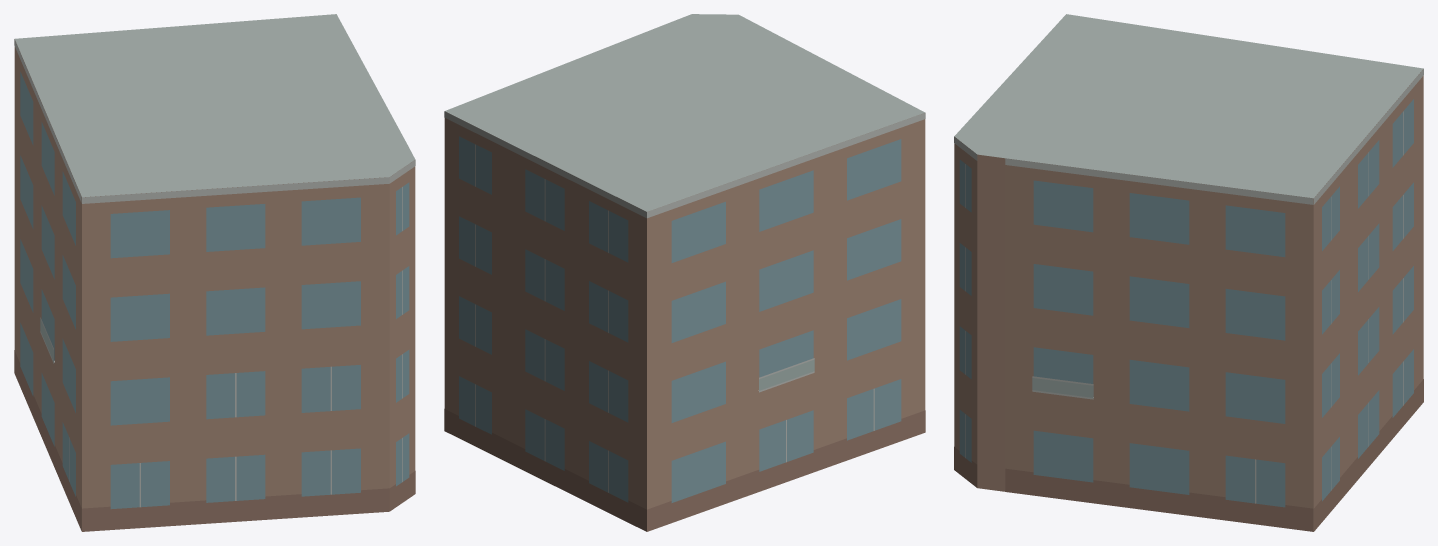
File: survey-upis-32883503.glb
The picture shows the model from 3 angles, left to right: view 1: azimuth 30°, elevation 25°; view 2: azimuth 150°, elevation 25°; view 3: azimuth 270°, elevation 25°; orthographic projection. The views are drawn at different scales.
Visible parts, largest first — view 1: survey-upis-32883503.tmp; view 2: survey-upis-32883503.tmp; view 3: survey-upis-32883503.tmp.
Boxes of the visible parts, left/top/right/bottom form: survey-upis-32883503.tmp: left=14, top=14, right=415, bottom=531; survey-upis-32883503.tmp: left=444, top=14, right=925, bottom=531; survey-upis-32883503.tmp: left=954, top=14, right=1423, bottom=531.
Bounding box in the file's own units: 14.46 × 12.2 × 15.57.
